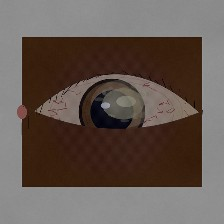corneal_ulcer: (89, 77, 157, 131)
